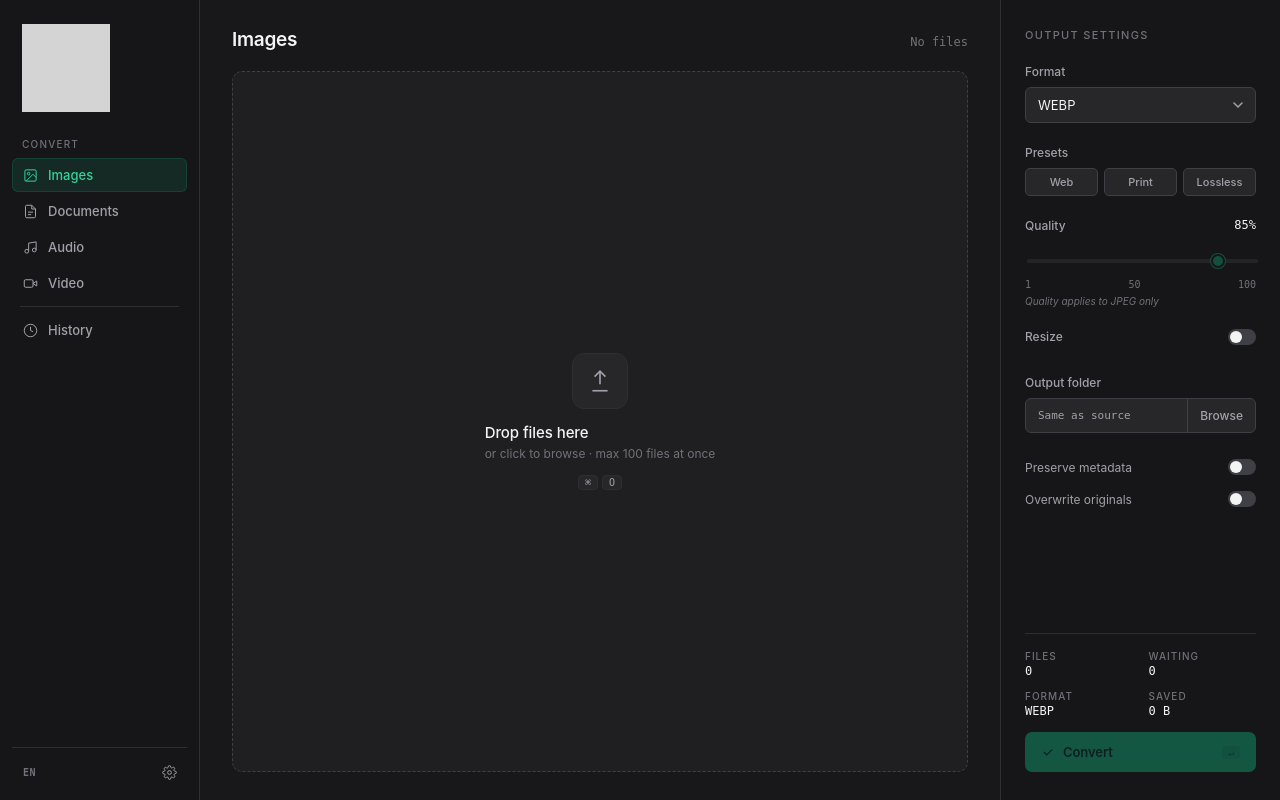
Test case: App — category navigation › switches to Audio on nav click
This screenshot has width=1280, height=800.
Click the button with class "nav-item" showing "Audio": (54,247) left=23, top=239, right=84, bottom=255
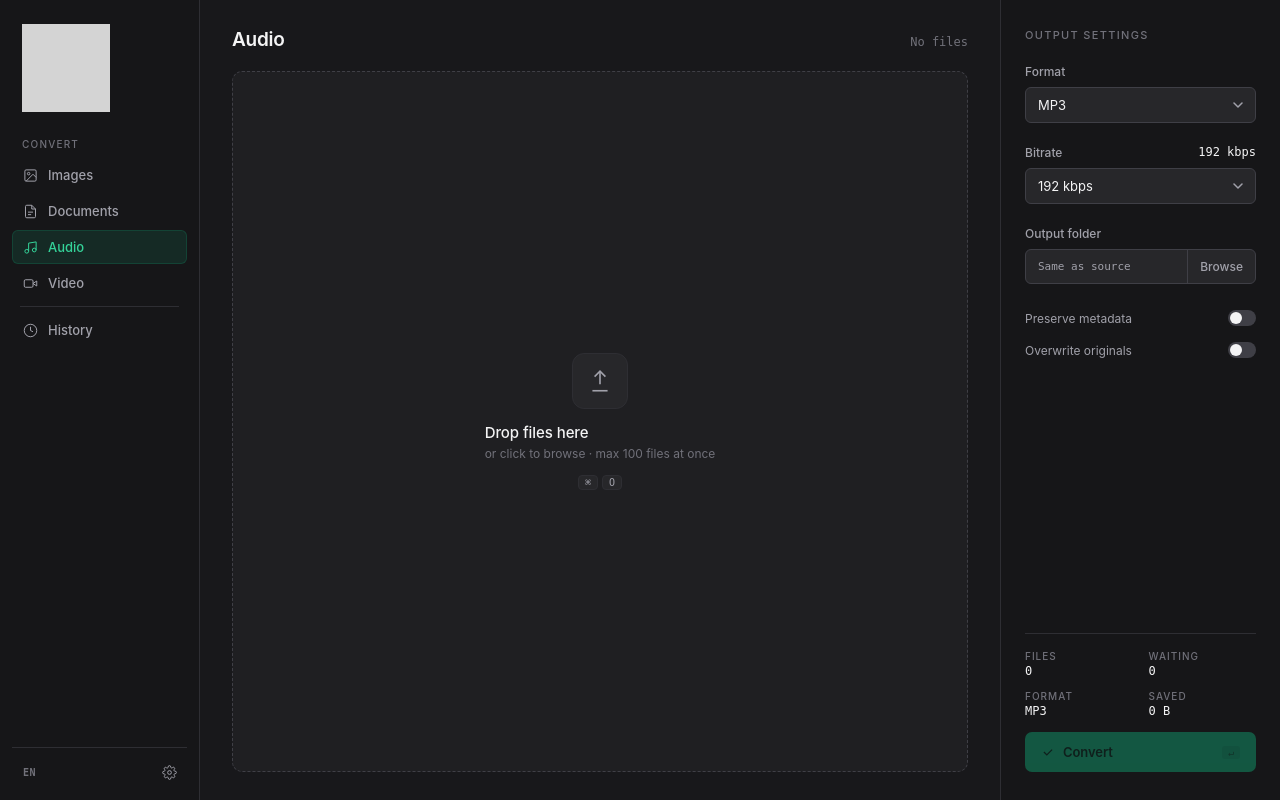
Expected: the text with class "main-title" reads "Audio", left=232, top=28, right=284, bottom=51
